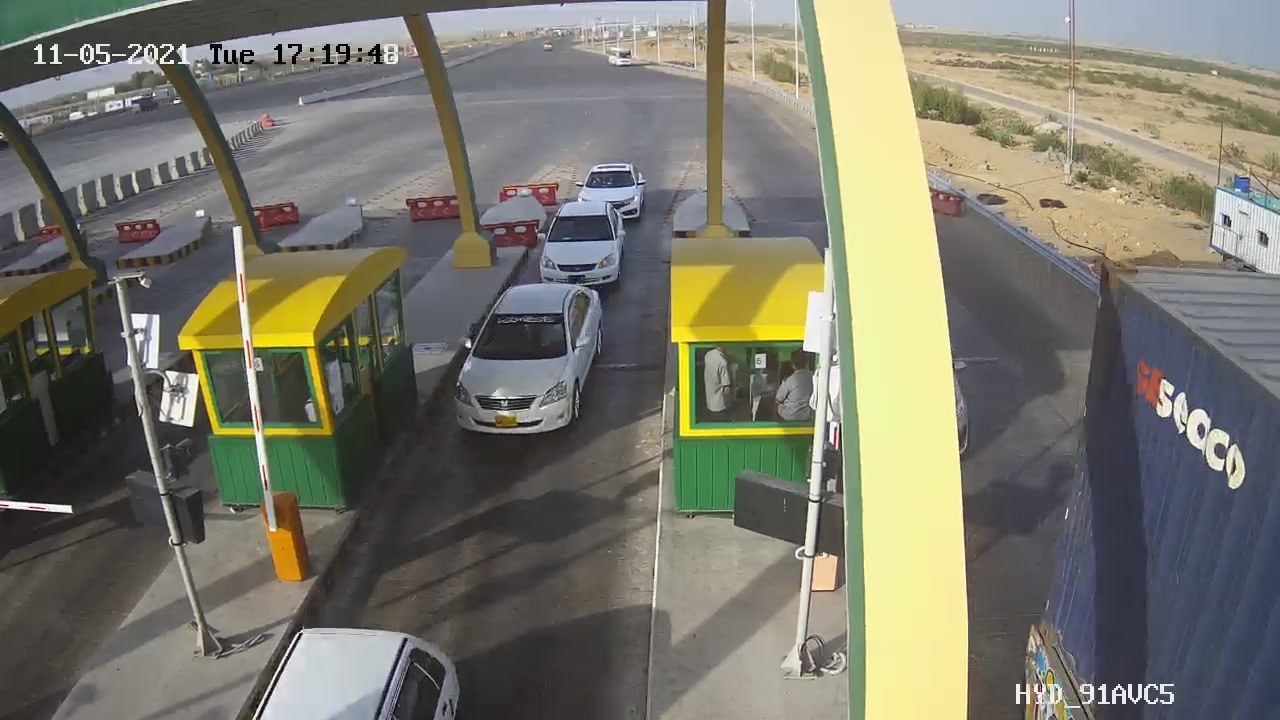F1: (440, 270, 618, 449), (522, 190, 642, 300)
